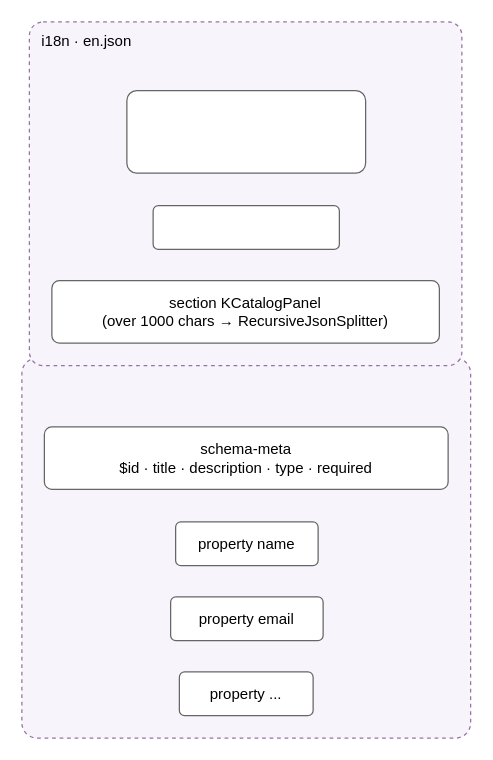
Image size: 493x760. Some labels were removed from this diagram. Each missing label, with the box of its shape:
labels flat keys grouped: APPLICATION_NAME, CANCEL: (126, 89, 366, 173)
schema · users.create.json: (21, 357, 471, 738)
section KLayerList: (152, 204, 339, 249)
